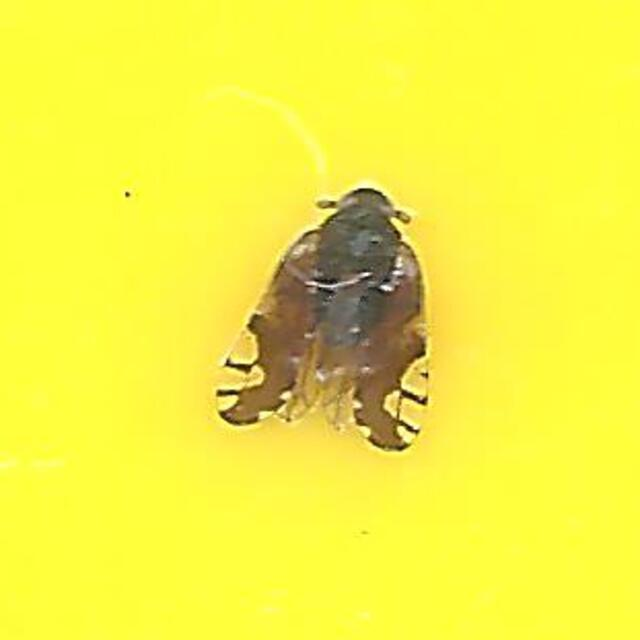Hemiptera: (206, 183, 434, 457)
